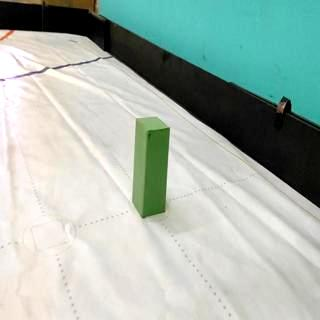greenbox: (131, 116, 172, 220)
